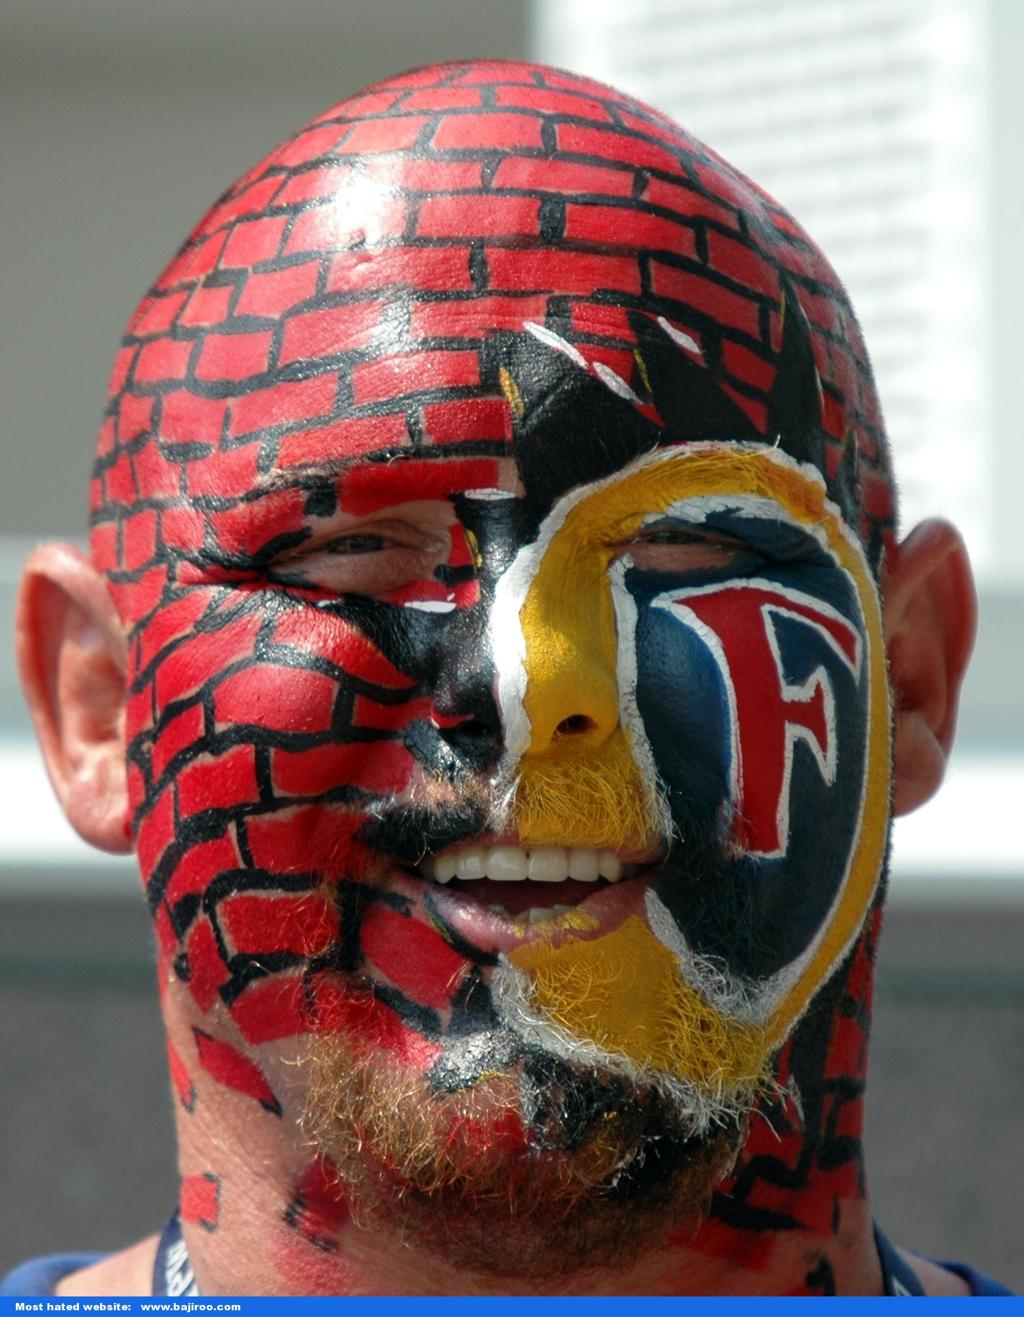face: (139, 206, 890, 1251)
